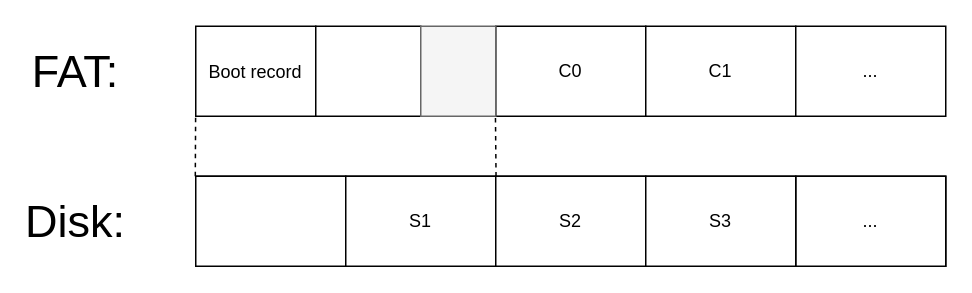
Image size: 972x293. Some labels were removed from this diagram. The shapes that lost their labels are listed below. From the top down, each one's centre as x and y in pixels, then its label:
pixel 367 70: FAT
pixel 457 70: Empty
pixel 270 220: S0
